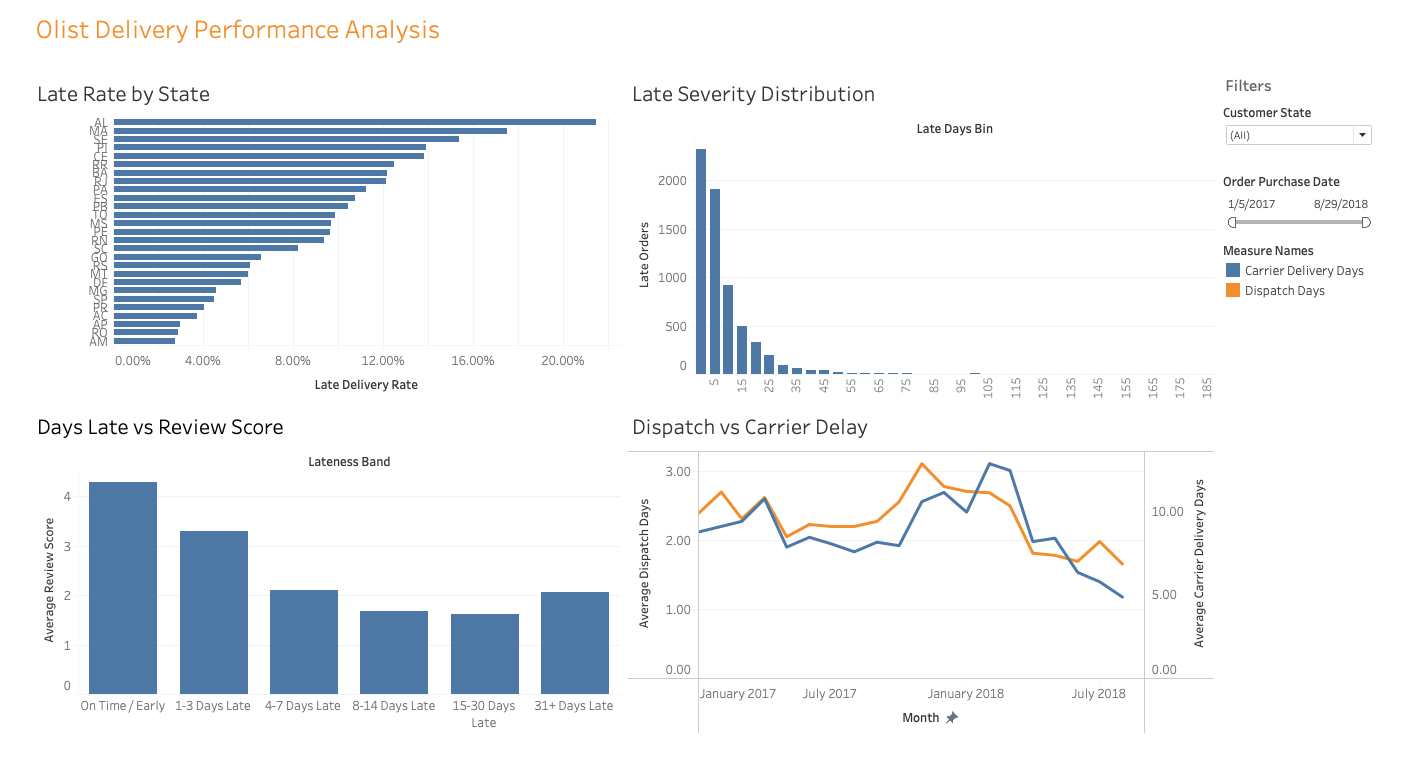

This screenshot's page, from the dashboard's own definition file:
{"tool":"tableau","page":{"name":"Delivery Dashboard","canvas":[1366,768],"ordinal":0},"visuals":[{"type":"title","box":[8,8,1350,85]},{"type":"worksheet","title":"Delivery - Late Rate by State","mark":"Automatic","rows":["customer_state"],"cols":["late_flag"],"box":[8,93,595,333.5]},{"type":"worksheet","title":"Delivery - Late Severity Distribution","mark":"Automatic","rows":["order_id"],"cols":["Days Late (bin)"],"box":[603,93,595,333.5]},{"type":"text","box":[1198,93,160,29]},{"type":"filter","title":"Delivery - Late Rate by State","param":"[federated.0wcvoh31intsxr0zt7qej1d0qm6s].[none:customer_state:nk]","box":[1198,122,160,69]},{"type":"filter","title":"Delivery - Late Rate by State","param":"[federated.0wcvoh31intsxr0zt7qej1d0qm6s].[none:Calculation_2011983189372780546:q","box":[1198,191,160,69]},{"type":"legend","title":"Delivery - Dispatch vs Carrier Delay","param":"[federated.1ysang01j5w5t713sozn911z1arb].[:Measure Names]","box":[1198,260,160,85]},{"type":"worksheet","title":"Delivery - Dispatch vs Carrier Delay","mark":"Automatic","rows":["dispatch_days","carrier_delivery_days"],"cols":["order_purchase_timestamp"],"box":[603,426,595,334]},{"type":"worksheet","title":"Delivery - Days Late vs Review Score","mark":"Automatic","rows":["avg_review_score"],"cols":["Calculation_1976446973545406464"],"box":[8,426.5,595,333.5]}]}

Visuals, with their boxes in screenshot pixels (x1, y1, x2, y2), scaled from the page's 1366x768 canvas onto the 1405x781 screenshot:
title: 8 8 1397 95
"Delivery - Late Rate by State" worksheet: 8 95 620 434
"Delivery - Late Severity Distribution" worksheet: 620 95 1232 434
text: 1232 95 1397 124
"Delivery - Late Rate by State" filter: 1232 124 1397 194
"Delivery - Late Rate by State" filter: 1232 194 1397 264
"Delivery - Dispatch vs Carrier Delay" legend: 1232 264 1397 351
"Delivery - Dispatch vs Carrier Delay" worksheet: 620 433 1232 773
"Delivery - Days Late vs Review Score" worksheet: 8 434 620 773
